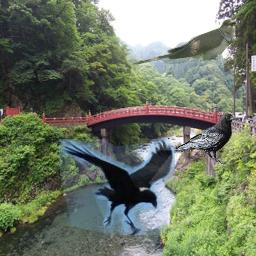Crow: (59, 139, 175, 235), (172, 112, 240, 166)
Cuckoo: (129, 18, 236, 67)
